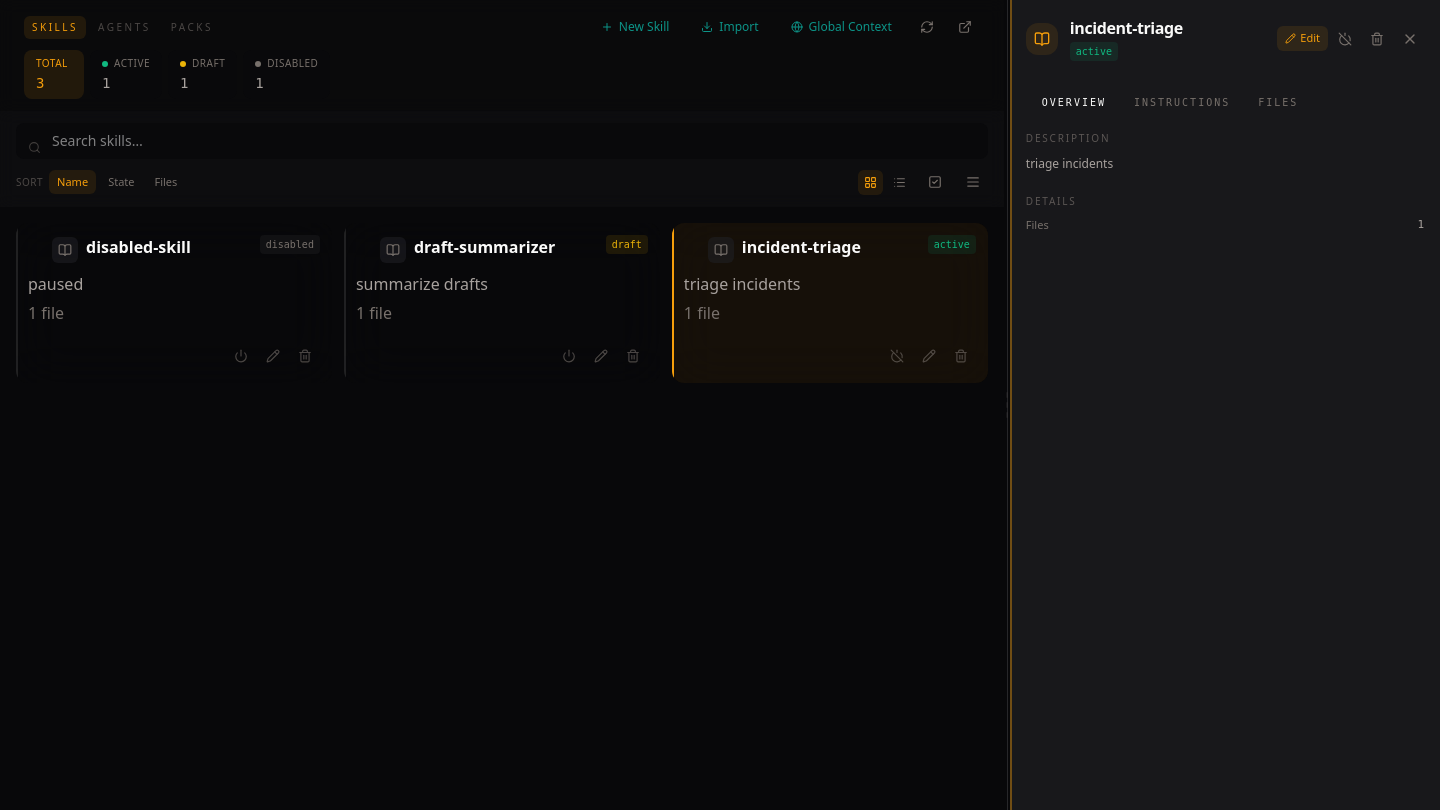
LibraryWorkspace › inspector pane › clears the selection and ?selected= when the inspector is closed
Expected: the heading "incident-triage" is shown, [1070,16,1183,40]
Click the button named "close inspector": (1410, 38) [1396,24,1424,52]
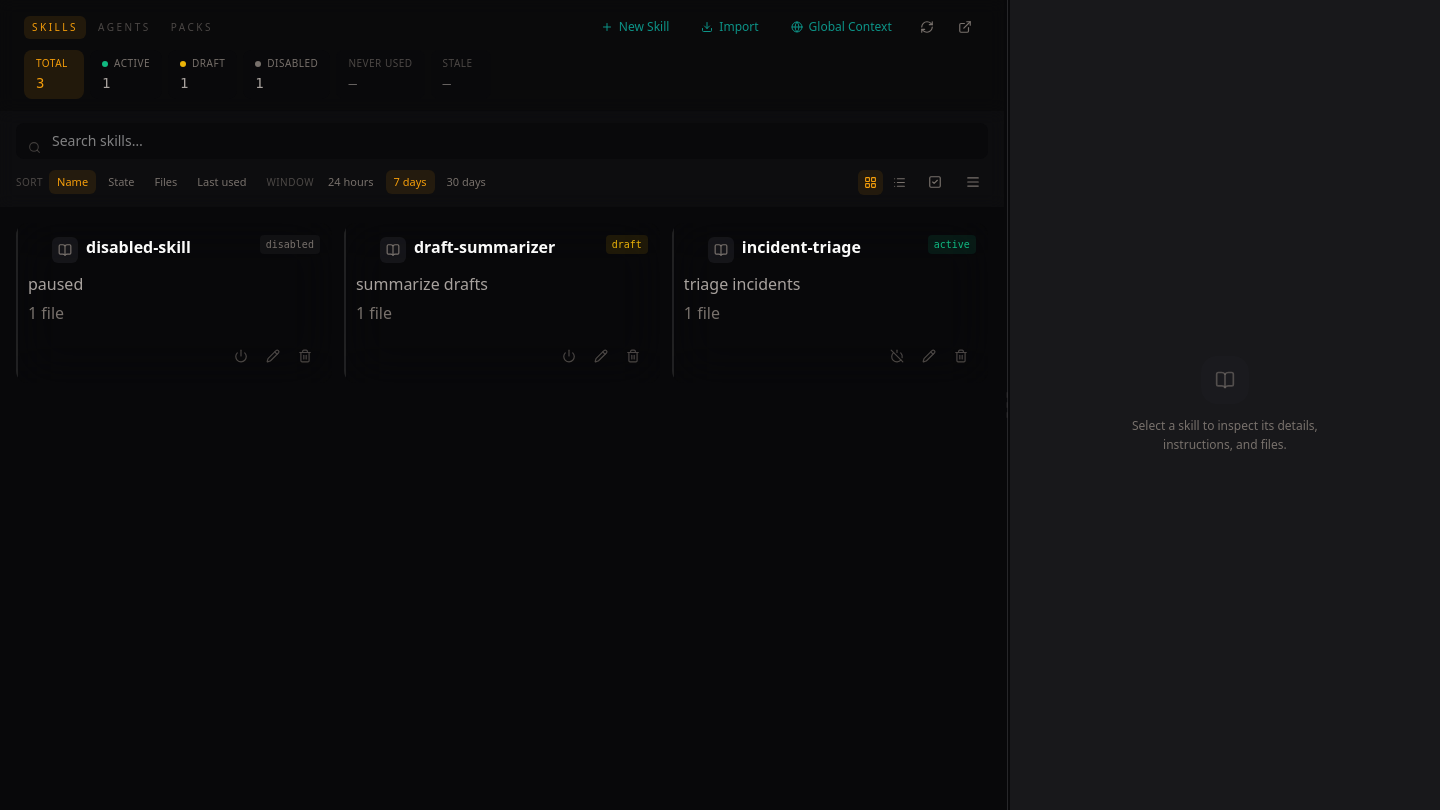
Now the text "Select a skill to inspect" is shown, box [1132,416,1318,453]
